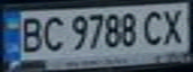7: (84, 11, 106, 51)
8: (118, 9, 142, 48), (103, 10, 124, 49)
9: (66, 11, 90, 52)
B: (15, 14, 45, 54)
C: (36, 14, 69, 53), (139, 7, 169, 47)
X: (157, 6, 190, 46)
